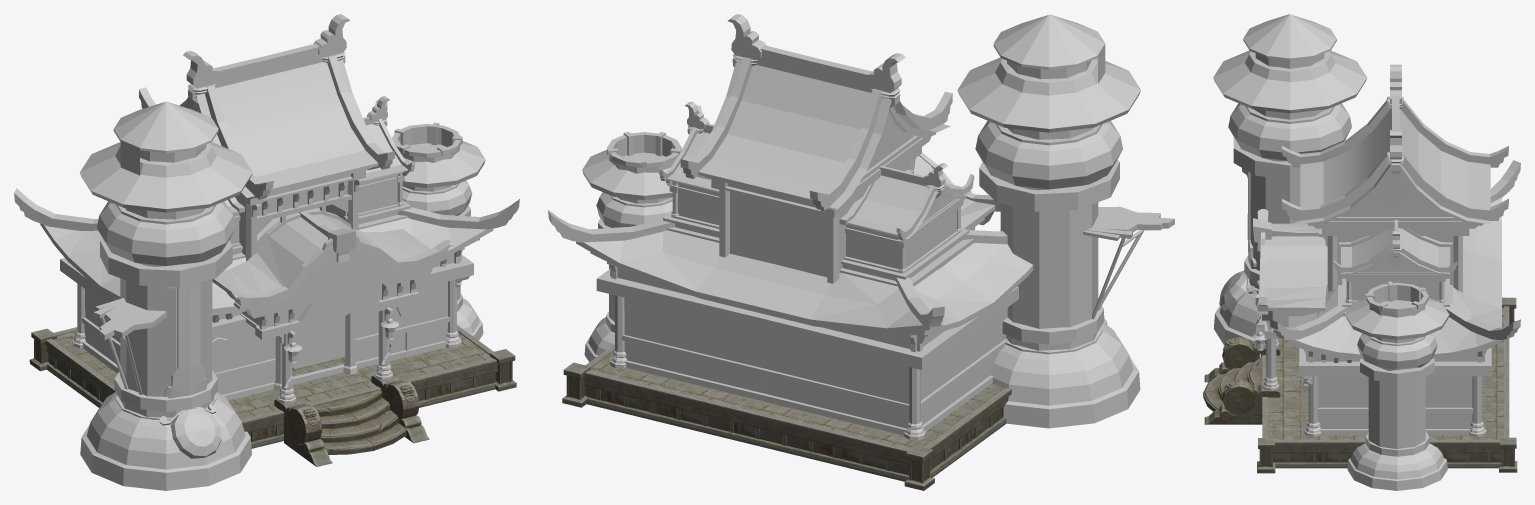
Rendered from build_02_02.FBX.
3 views of the same model, side by side, from view 1: azimuth 30°, elevation 25°; view 2: azimuth 150°, elevation 25°; view 3: azimuth 270°, elevation 25° (orthographic). The views are drawn at different scales.
Parts seen in each view (by area): view 1: segment_8, segment_9, segment_10; view 2: segment_8, segment_9, segment_10; view 3: segment_8, segment_9, segment_10.
Part boxes in pixels (box(x1,y1,x2,y2)): segment_8: box(14, 14, 519, 490); segment_9: box(29, 325, 516, 466); segment_10: box(79, 101, 399, 394); segment_8: box(548, 14, 1140, 440); segment_9: box(562, 344, 1011, 490); segment_10: box(876, 14, 1174, 319); segment_8: box(1213, 14, 1520, 490); segment_9: box(1203, 297, 1517, 473); segment_10: box(1213, 14, 1413, 365).
Size of the model in its own units: 515 by 379 by 345.
